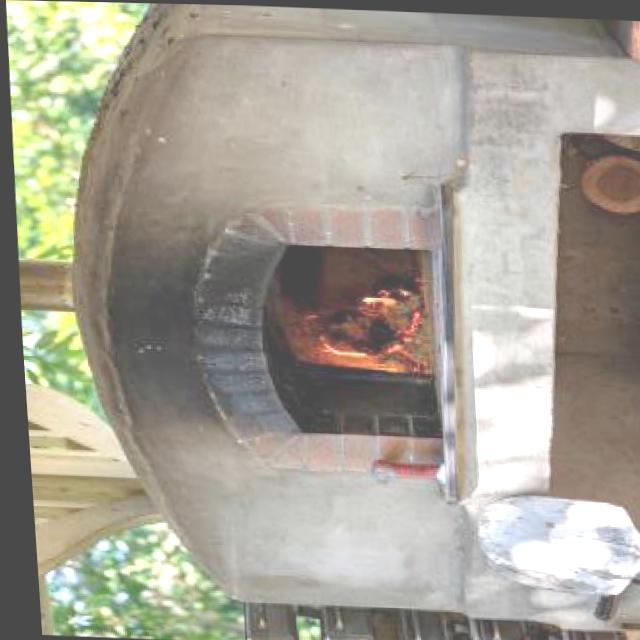helmet: (275, 274, 422, 372)
